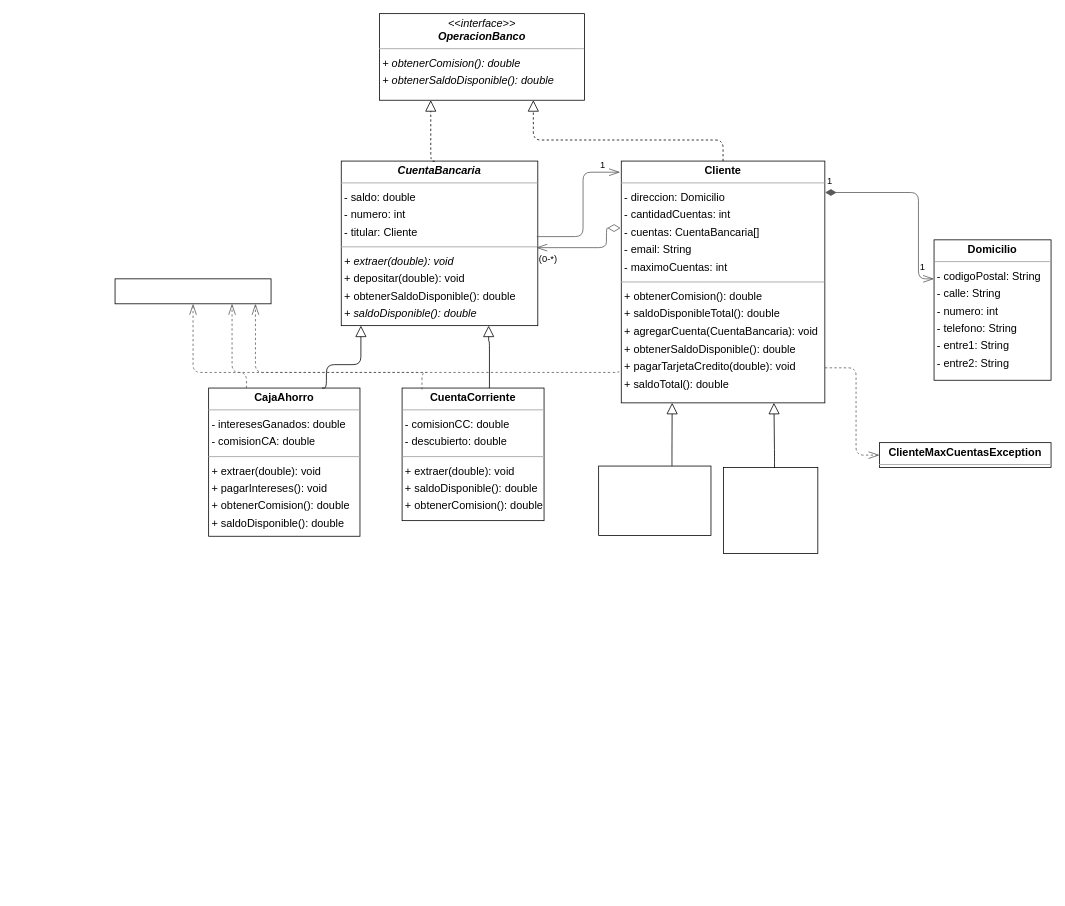
This 1065x906 diagram has some shape labels left out. Each missing label, with the centre of its shape:
Empresa - cuit: String - razonSocial: String: point (654, 500)
Persona - dni: int - nombre: String - apellido: String: point (770, 510)
SaldoInsuficienteException: point (192, 291)
